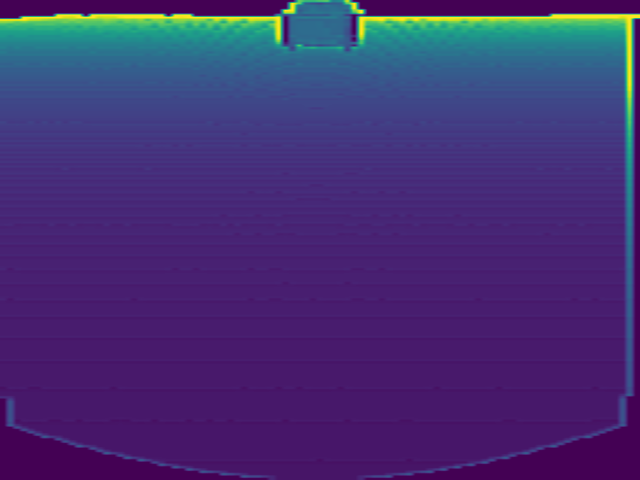car_0027: (279, 1, 363, 53)
